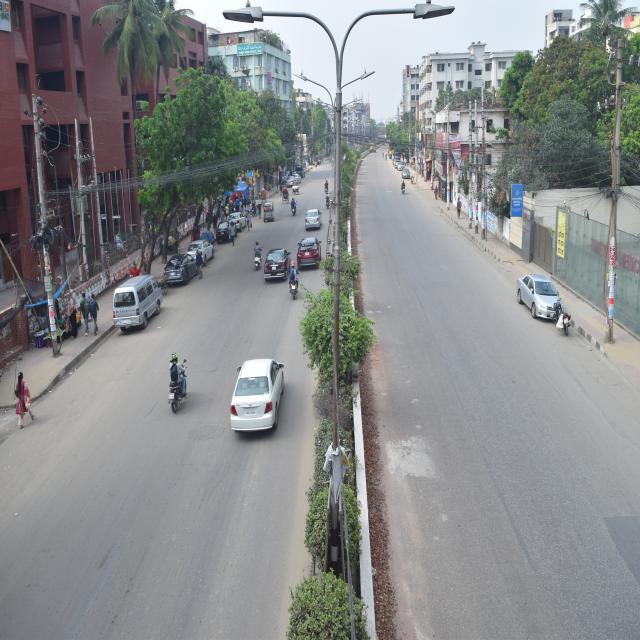car: (225, 342, 290, 438), (519, 268, 567, 320), (162, 253, 207, 291), (291, 225, 325, 267), (181, 232, 211, 266), (302, 206, 322, 231), (228, 201, 245, 228), (210, 220, 228, 241)
microbus: (111, 269, 162, 338)
motorbike: (165, 351, 189, 416), (553, 298, 575, 337), (284, 258, 302, 302), (250, 235, 263, 276), (286, 187, 297, 220), (317, 175, 327, 189), (326, 193, 332, 210)
